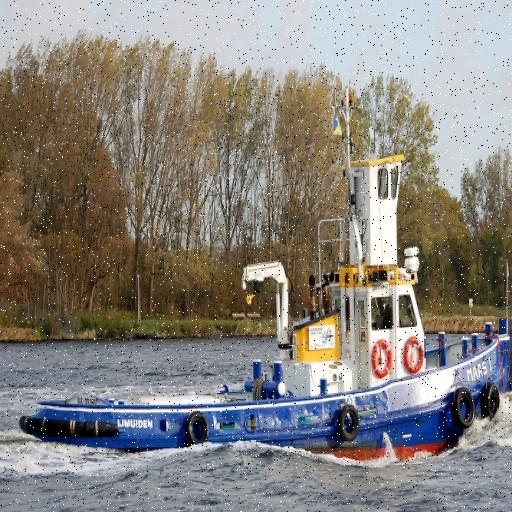tugboat: (16, 149, 512, 479)
